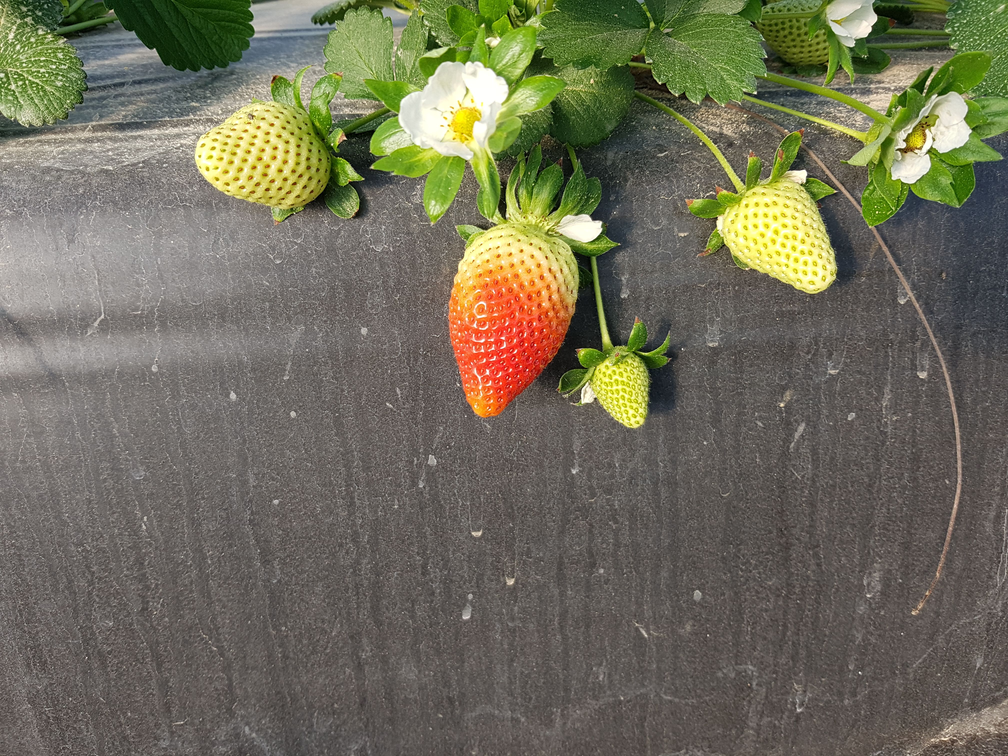peduncle: (637, 91, 743, 189), (757, 73, 883, 118), (591, 257, 613, 350), (341, 107, 390, 133)
strawberry: (450, 222, 576, 415), (195, 82, 332, 210), (718, 177, 834, 292)
